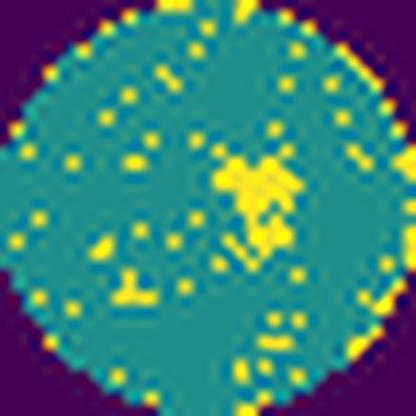Loc: (206, 154, 306, 275), (108, 269, 158, 312)
